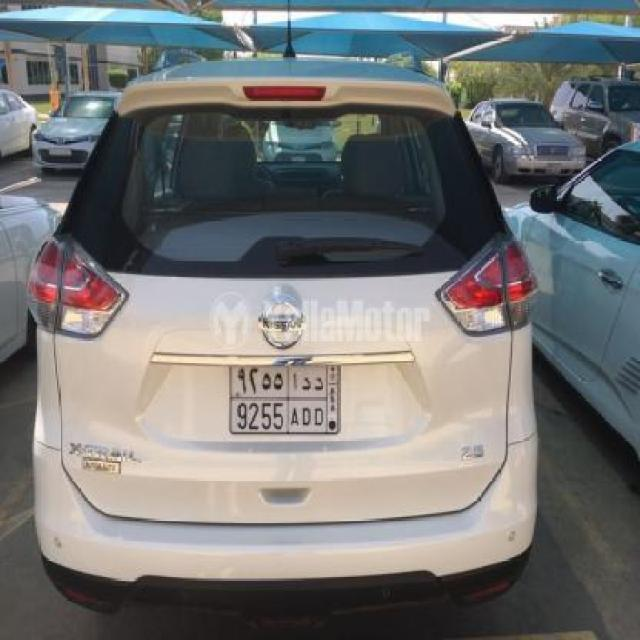license_plate: (228, 360, 344, 438)
